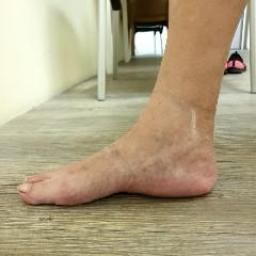Medial View -Right Foot-: (4, 87, 241, 220)
